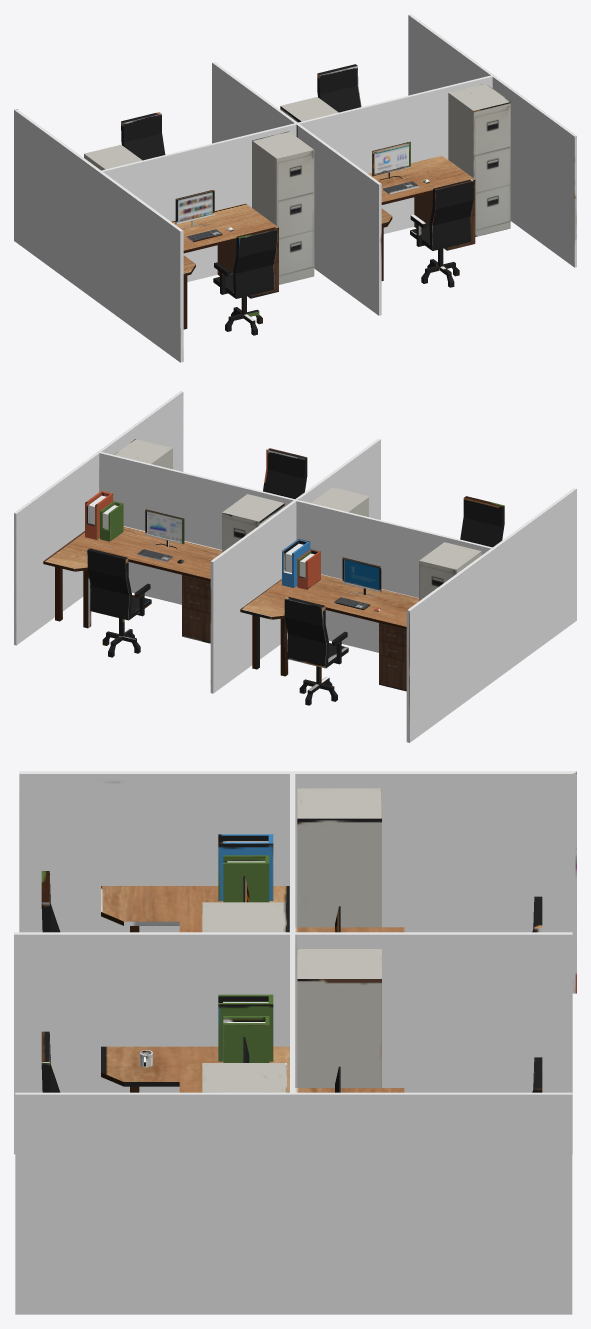
Rendered from stanowsikaglb.glb.
The picture shows the model from 3 angles, top to bottom: view 1: azimuth 30°, elevation 25°; view 2: azimuth 150°, elevation 25°; view 3: azimuth 270°, elevation 25°; orthographic projection. The views are drawn at different scales.
Parts seen in each view (by area): view 1: biurko.003; view 2: biurko.003; view 3: biurko.003.
Boxes of the visible parts, x1,y1,x2,y2 form: biurko.003: (14, 14, 576, 362); biurko.003: (14, 391, 576, 742); biurko.003: (14, 771, 576, 1314).
Bounding box in the file's own units: 13.9 × 4.41 × 10.23.
1 material, 1 textured.
